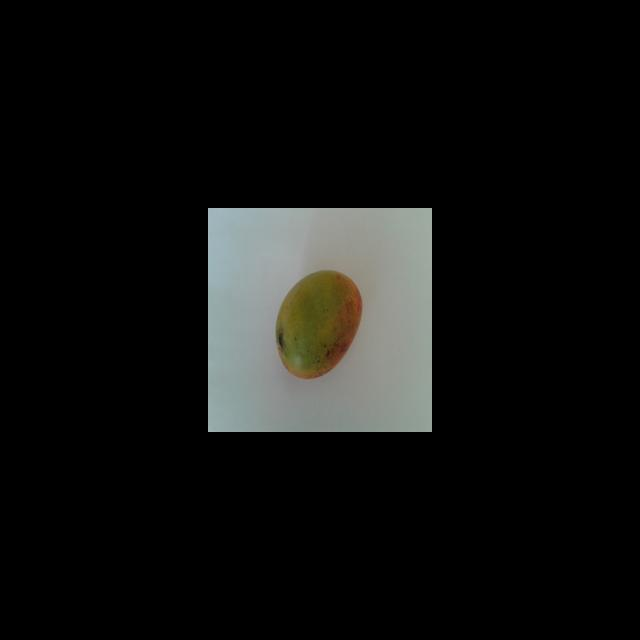Mango: (274, 269, 362, 379)
